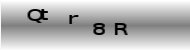8: (92, 21, 105, 36)
R: (113, 21, 128, 36)
W: (26, 7, 42, 24)
r: (67, 13, 79, 26)
t: (41, 8, 48, 21)
